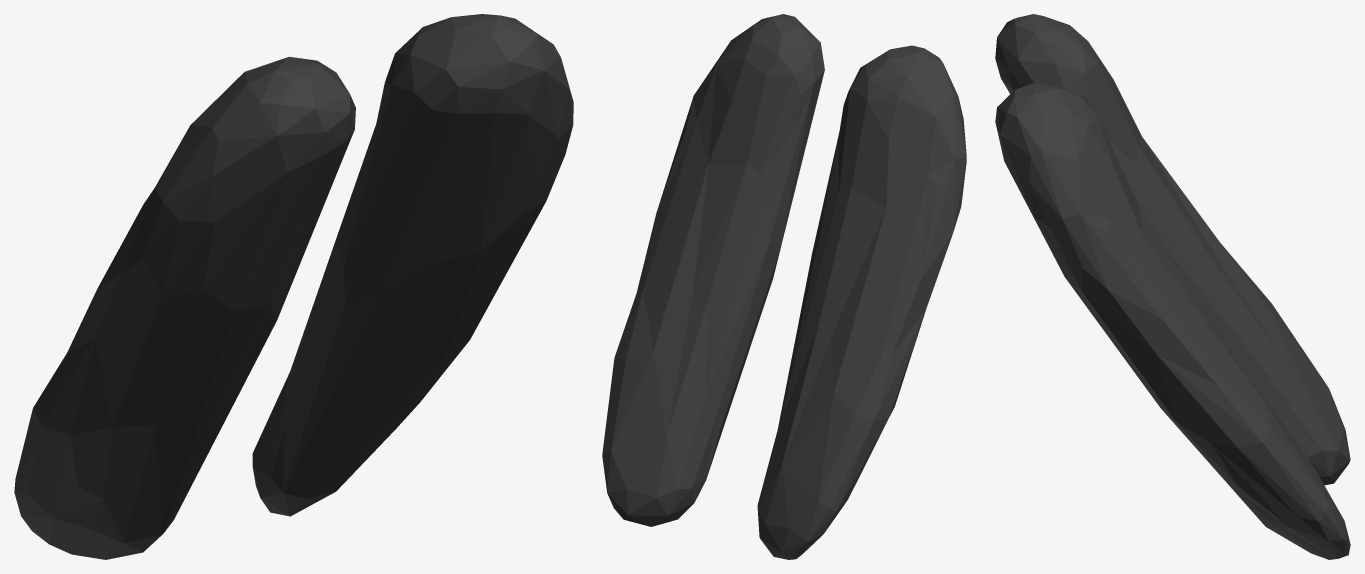
The model's file is m_rectus_capitis_ventralis.glb.
The picture shows the model from 3 angles, left to right: view 1: azimuth 30°, elevation 25°; view 2: azimuth 150°, elevation 25°; view 3: azimuth 270°, elevation 25°; orthographic projection. The views are drawn at different scales.
Parts seen in each view (by area): view 1: m_rectus_capitis_ventralis; view 2: m_rectus_capitis_ventralis; view 3: m_rectus_capitis_ventralis.
Part boxes in pixels (x1=…): m_rectus_capitis_ventralis: x1=14, y1=14, x2=573, y2=559; m_rectus_capitis_ventralis: x1=602, y1=14, x2=966, y2=559; m_rectus_capitis_ventralis: x1=995, y1=14, x2=1350, y2=559.
Size of the model in its own units: 0.000487 by 0.000682 by 0.000472.
1 material, 1 textured.
